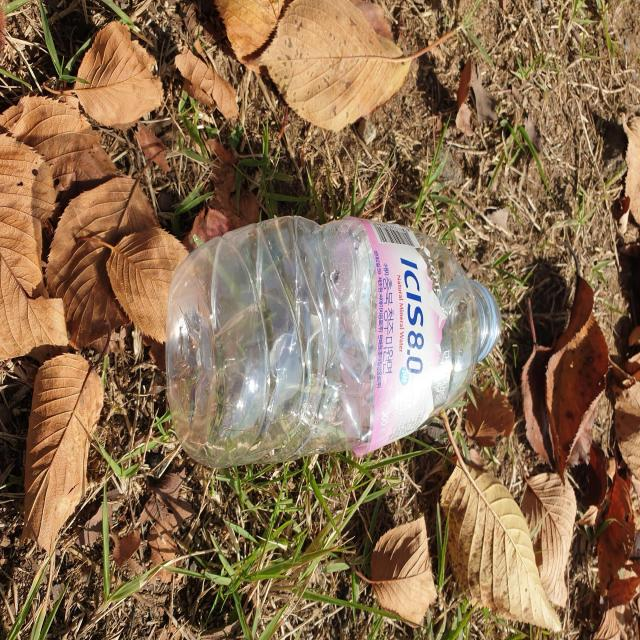plastic: (166, 216, 502, 468)
